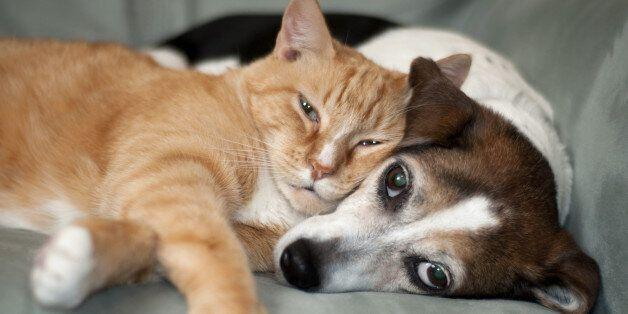cats: (3, 3, 382, 293)
dogs: (338, 43, 600, 314)
